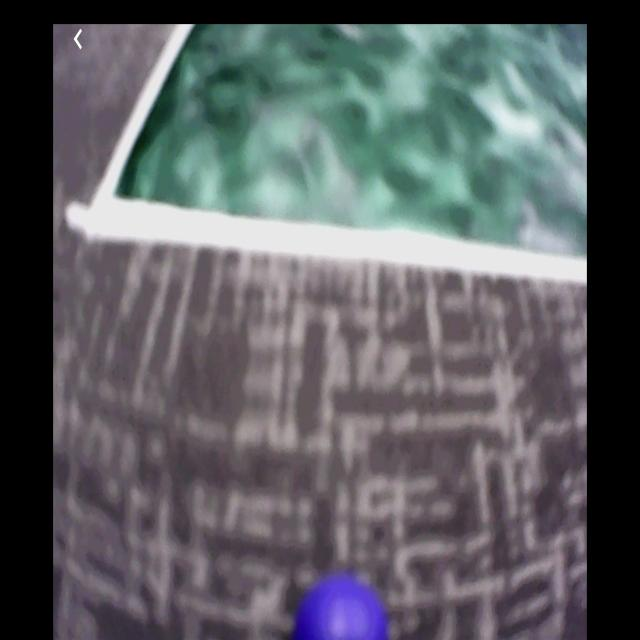ball: (295, 576, 386, 640)
